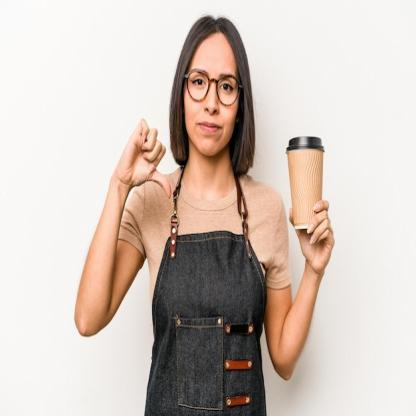thumb_down: (118, 116, 173, 200)
